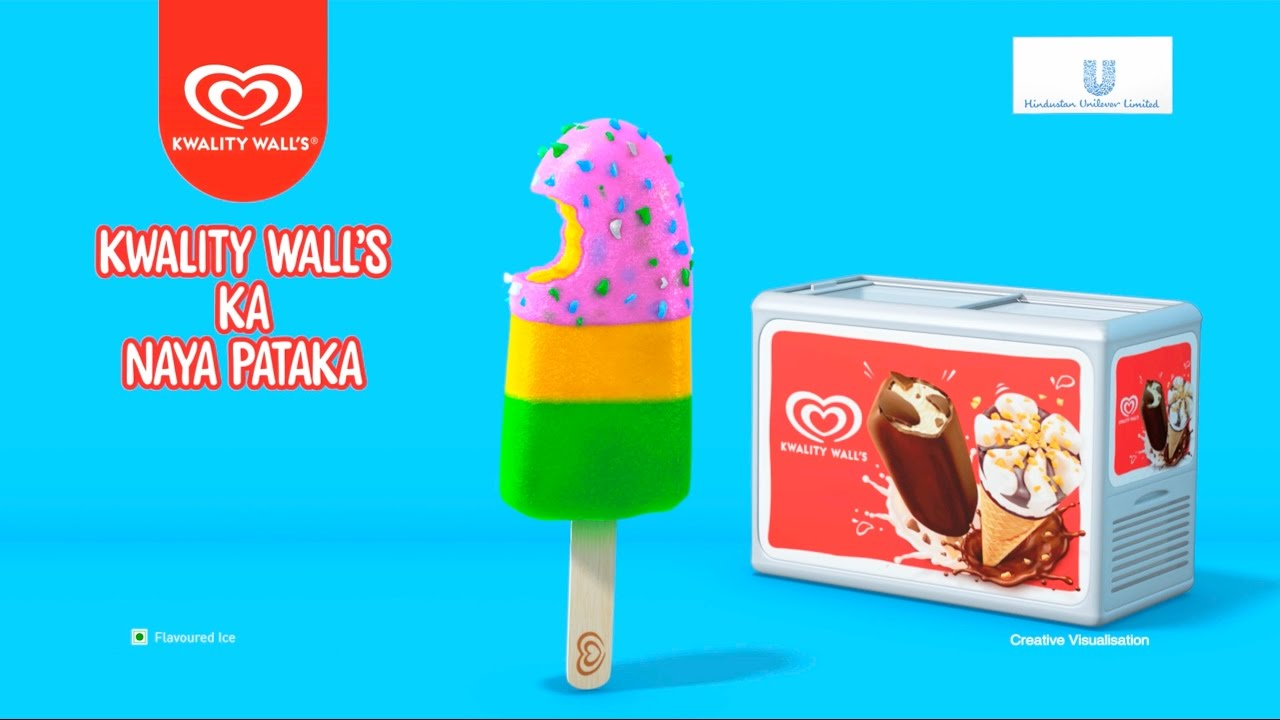Kwality_Walls: (173, 56, 311, 137), (777, 385, 869, 445), (1116, 389, 1147, 423)
